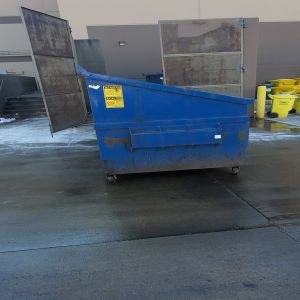Dumpster: (90, 78, 253, 181)
